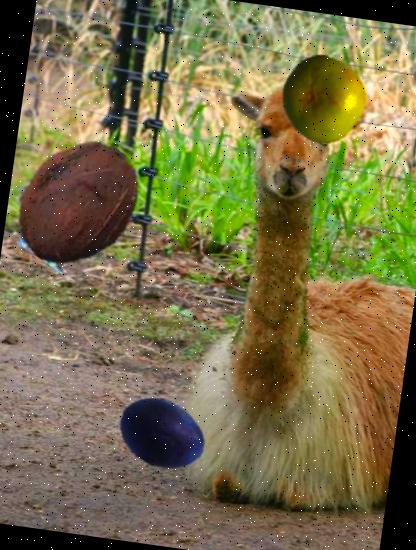Cocos: (2, 128, 153, 278)
Plum: (112, 383, 214, 485)
Pomelo: (274, 50, 374, 150)
